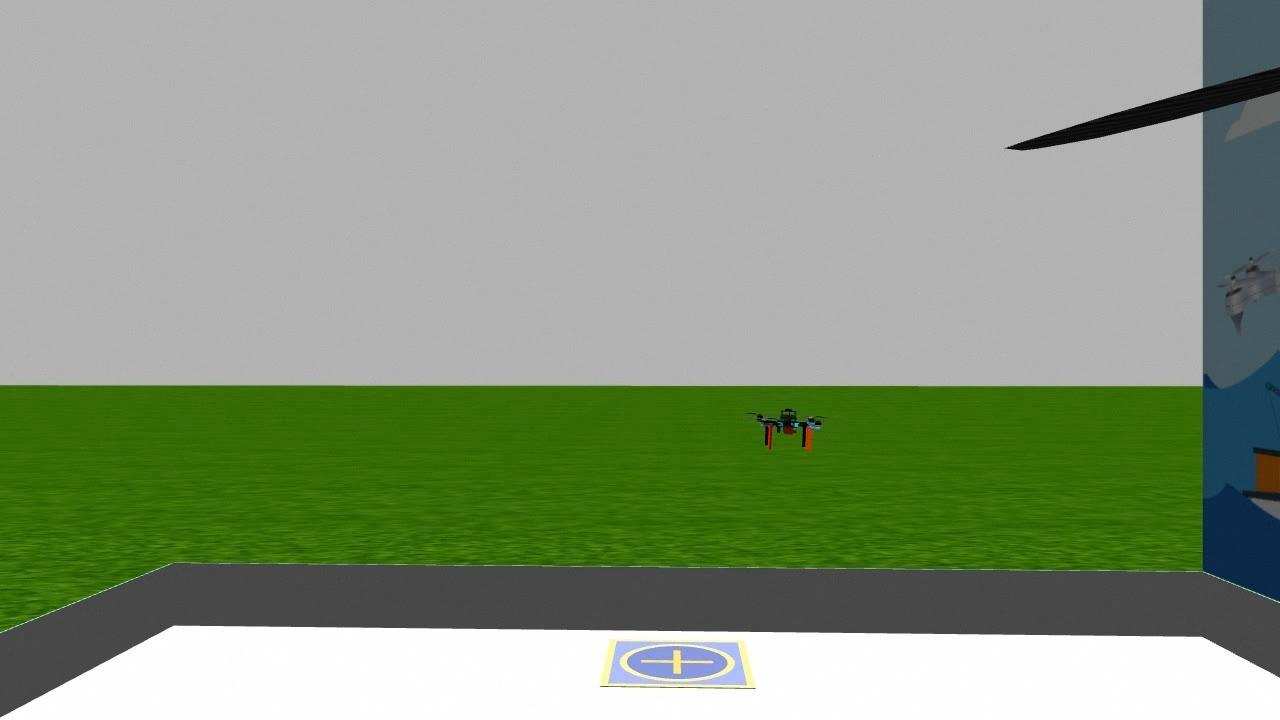UAV: (746, 394, 836, 454)
